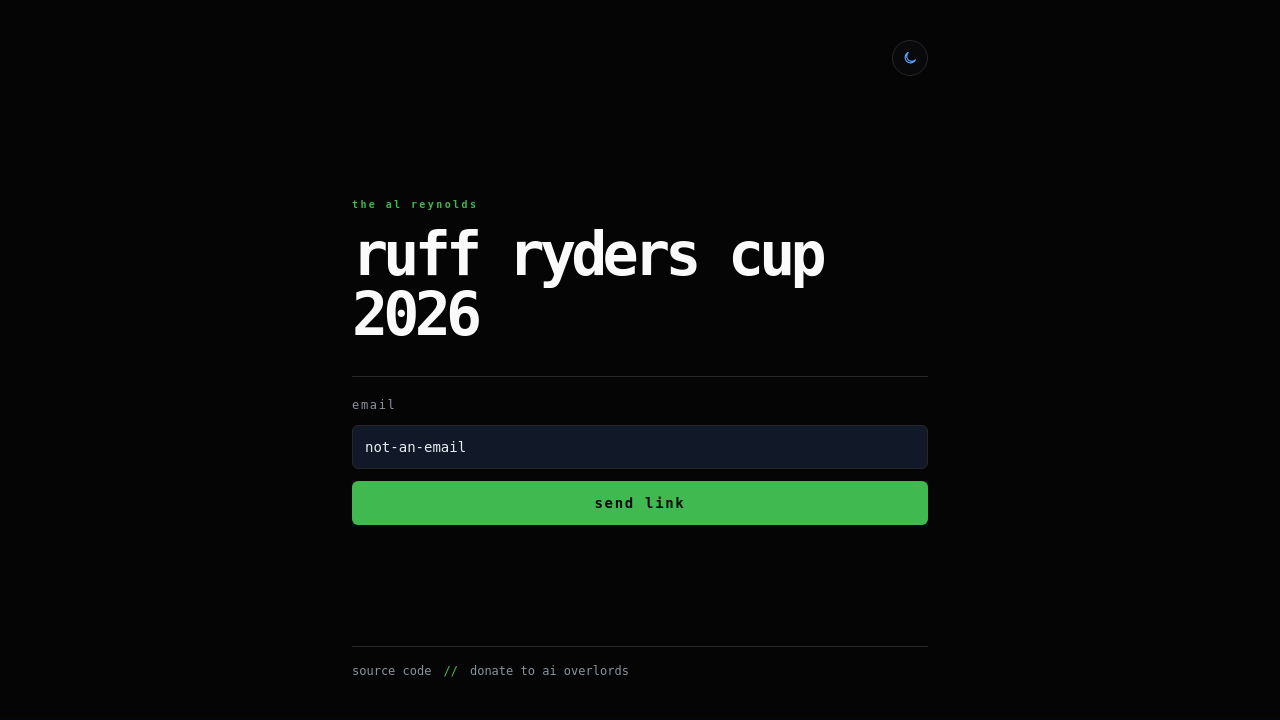
Test: SignInPanel › blocks invalid email submissions with feedback
Click the button "send link".
click(640, 503)  # box [352,481,928,525]
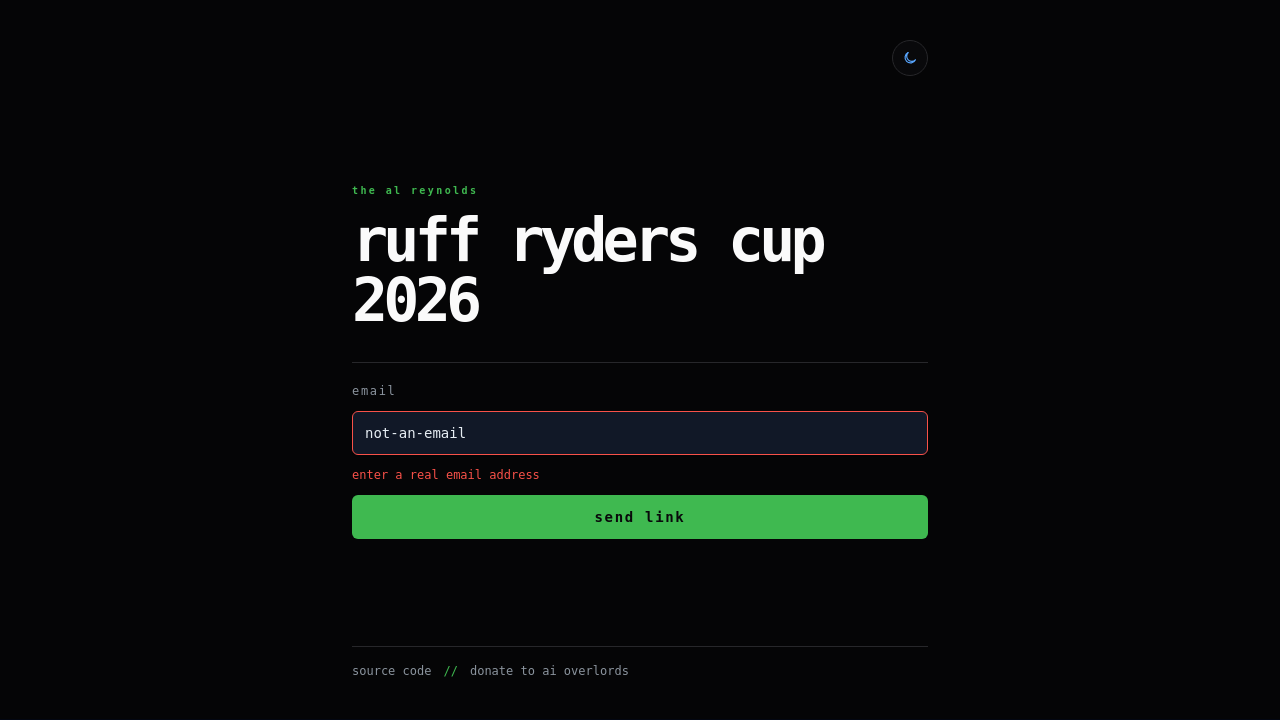
Result: the text "enter a real email address" is shown at [352,468,540,482]
